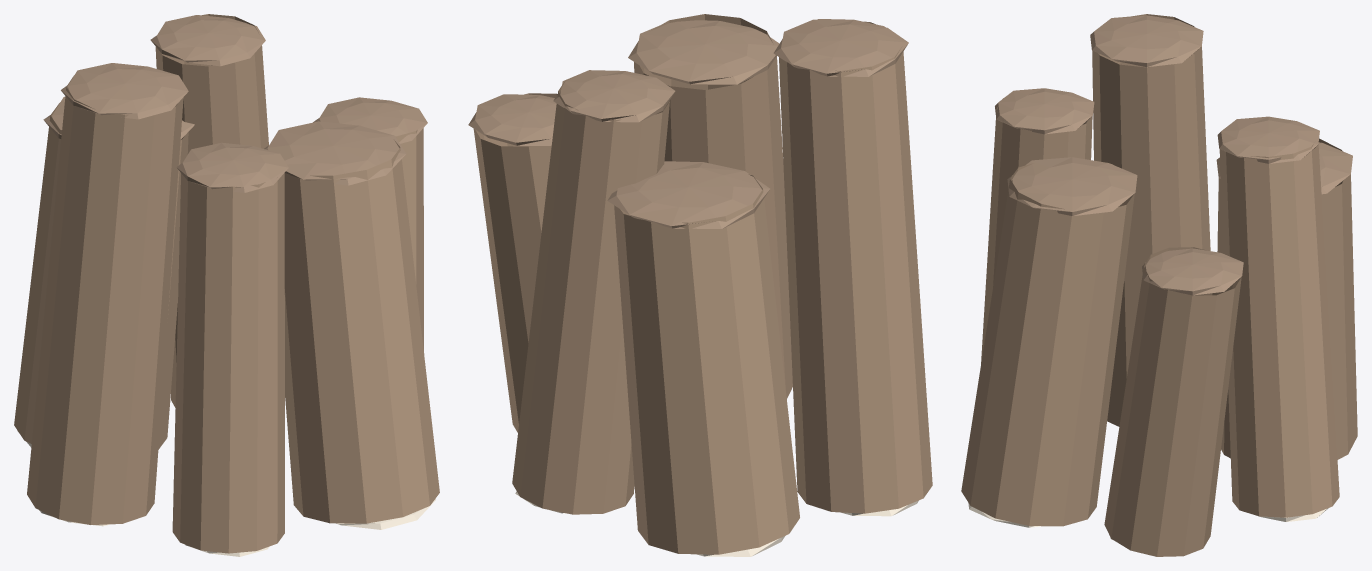
The model's file is sandalwood_hi.glb.
3 renders of one model, left to right at view 1: azimuth 30°, elevation 25°; view 2: azimuth 150°, elevation 25°; view 3: azimuth 270°, elevation 25°, orthographic. The views are drawn at different scales.
Parts seen in each view (by area): view 1: sandalwood_hi; view 2: sandalwood_hi; view 3: sandalwood_hi.
Boxes of the visible parts, x1,y1,x2,y2 form: sandalwood_hi: [14, 14, 439, 556]; sandalwood_hi: [468, 14, 932, 556]; sandalwood_hi: [961, 14, 1357, 556].
Bounding box in the file's own units: 0.8164 × 0.8159 × 0.748.
